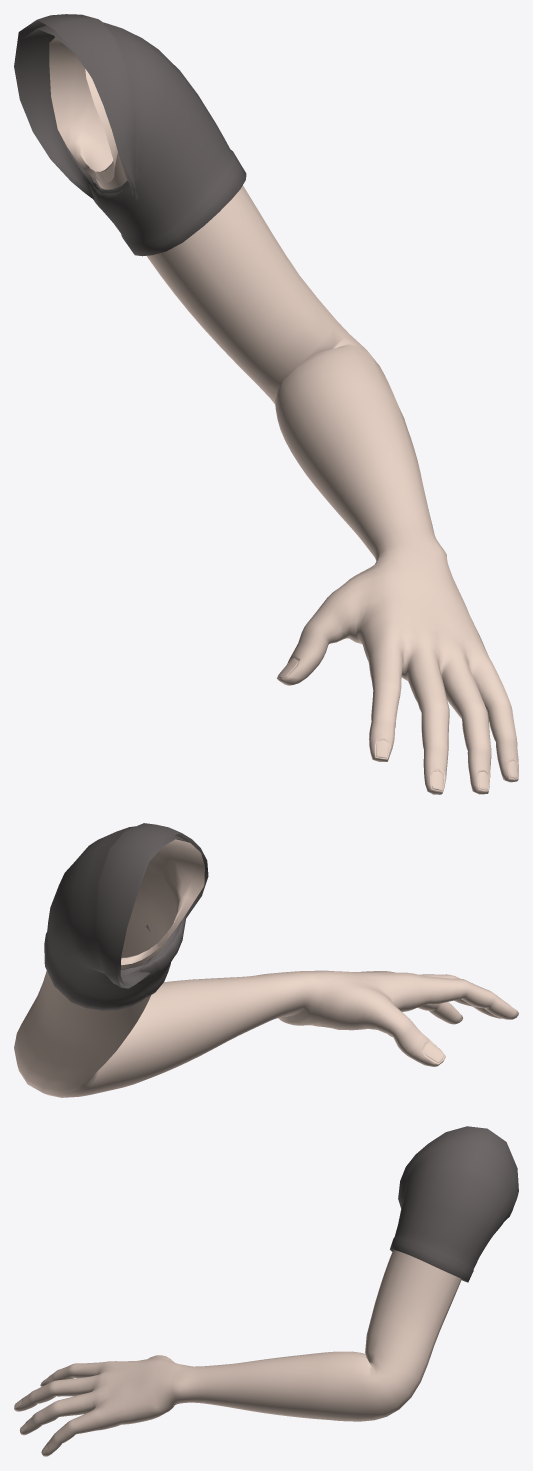
Rendered from LeftArmShroom.fbx.
3 views of the same model, one above another, from view 1: azimuth 30°, elevation 25°; view 2: azimuth 150°, elevation 25°; view 3: azimuth 270°, elevation 25° (orthographic). The views are drawn at different scales.
Parts seen in each view (by area): view 1: polySurface182; view 2: polySurface182; view 3: polySurface182.
Boxes of the visible parts, box(x1,y1,x2,y2) form: polySurface182: box(14, 14, 518, 794); polySurface182: box(14, 823, 518, 1097); polySurface182: box(14, 1126, 518, 1456).
Bounding box in the file's own units: 19.4 × 33.21 × 50.22.
